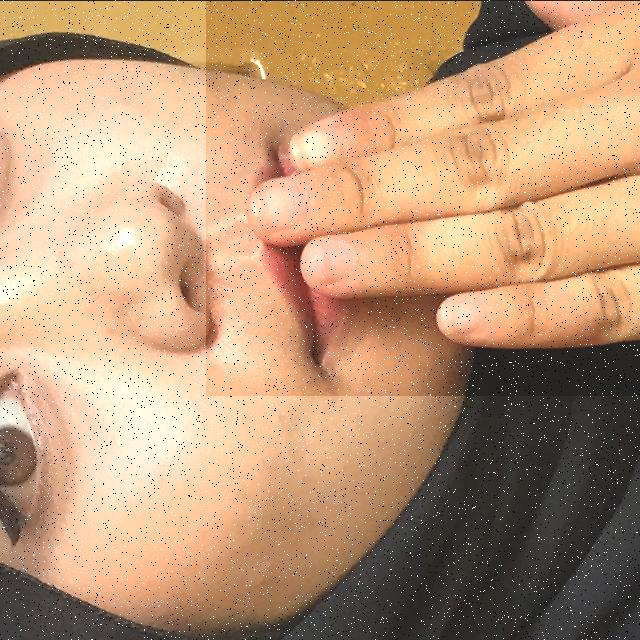ganteng: (206, 0, 640, 395)
